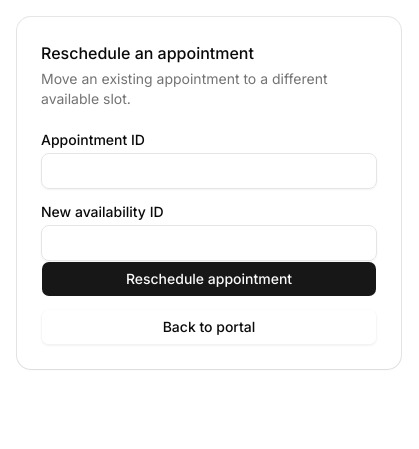
Test case: ReschedulePage › validates that all fields are required before submitting
Click the button "Reschedule appointment" at x=209, y=279, box [41, 261, 377, 297]
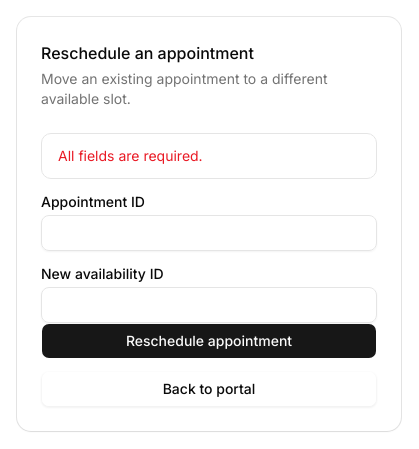
Expected: the text "All fields are required." is shown, [58, 147, 203, 164]
